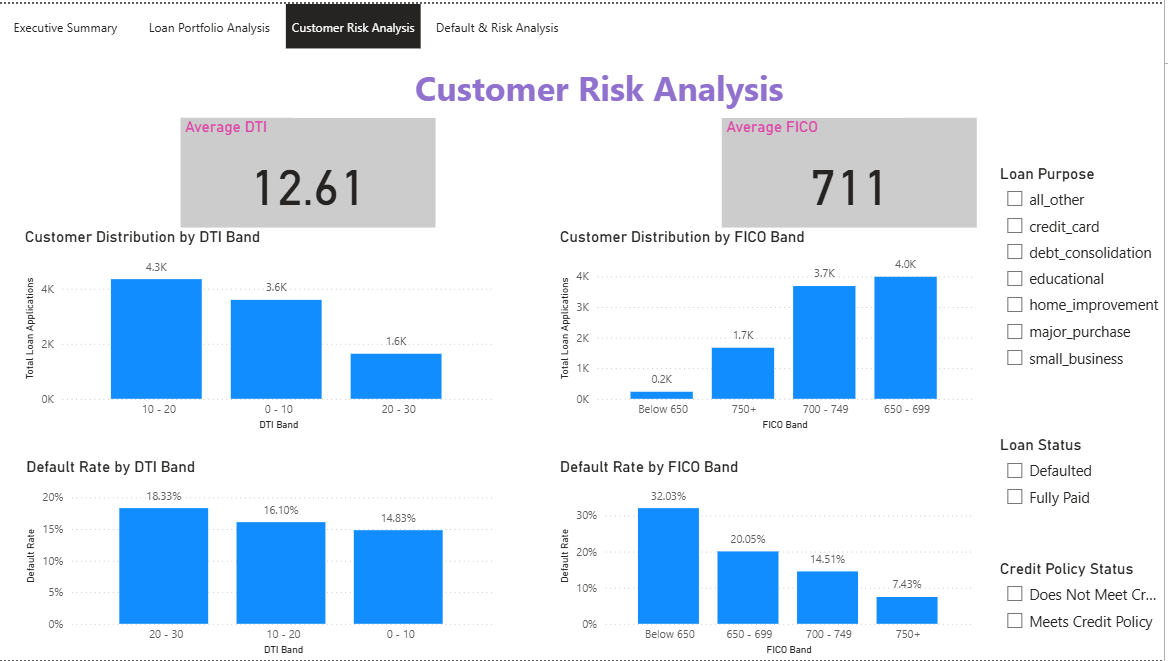

The dashboard page shown, as its layout file describes it:
{"tool":"powerbi","page":{"name":"Customer Risk Analysis","canvas":[1280,720],"ordinal":2},"visuals":[{"type":"card","title":"Average FICO ","fields":{"Values":["Mtable.Average FICO"]},"box":[794.5,124.9,279.9,120.8],"z":0},{"type":"card","title":" Average DTI","fields":{"Values":["Mtable.Average DTI"]},"box":[200.3,124.9,279.9,120.8],"z":1000},{"type":"clusteredColumnChart","title":"Customer Distribution by FICO Band","fields":{"Category":["loan_data.FICO Band"],"Y":["Mtable.Total Loan Applications"]},"box":[612,245.6,462.4,227.8],"z":2000},{"type":"clusteredColumnChart","title":"Customer Distribution by DTI Band","fields":{"Category":["loan_data.DTI Band"],"Y":["Mtable.Total Loan Applications"]},"box":[24.7,245.6,525.6,227.8],"z":3000},{"type":"clusteredColumnChart","title":"Default Rate by FICO Band","fields":{"Category":["loan_data.FICO Band"],"Y":["Mtable.Default Rate"]},"box":[612,498.1,462.4,222.3],"z":4000},{"type":"slicer","title":"Loan Purpose","fields":{"Values":["loan_data.purpose"]},"box":[1095,175.6,185.2,240.1],"z":5000},{"type":"slicer","title":"Credit Policy Status","fields":{"Values":["loan_data.Credit Policy Status"]},"box":[1095,609.3,185.2,97.4],"z":6000},{"type":"slicer","title":"Loan Status","fields":{"Values":["loan_data.Loan Status"]},"box":[1095,473.4,185.2,91.9],"z":7000},{"type":"textbox","box":[323.8,61.7,672.4,63.1],"z":8000},{"type":"clusteredColumnChart","fields":{"Category":["loan_data.DTI Band"],"Y":["Mtable.Default Rate"]},"box":[26.1,498.1,524.2,222.3],"z":9000},{"type":"pageNavigator","box":[0,0,625.7,49.4],"z":9001}]}

Visuals, with their boxes on the page's 1280x720 design canvas (x1, y1, x2, y2). These are canvas units, not pixel positions in the 1168x661 screenshot, which may show the page scaled, cropped or inside an application window:
"Average FICO " card: 794/125/1074/246
" Average DTI" card: 200/125/480/246
"Customer Distribution by FICO Band" clusteredColumnChart: 612/246/1074/473
"Customer Distribution by DTI Band" clusteredColumnChart: 25/246/550/473
"Default Rate by FICO Band" clusteredColumnChart: 612/498/1074/720
"Loan Purpose" slicer: 1095/176/1280/416
"Credit Policy Status" slicer: 1095/609/1280/707
"Loan Status" slicer: 1095/473/1280/565
textbox: 324/62/996/125
clusteredColumnChart - loan_data.DTI Band x Mtable.Default Rate: 26/498/550/720
pageNavigator: 0/0/626/49
